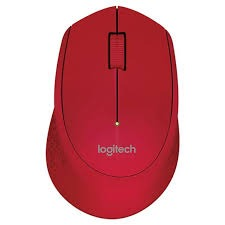mouse: (39, 5, 189, 224)
